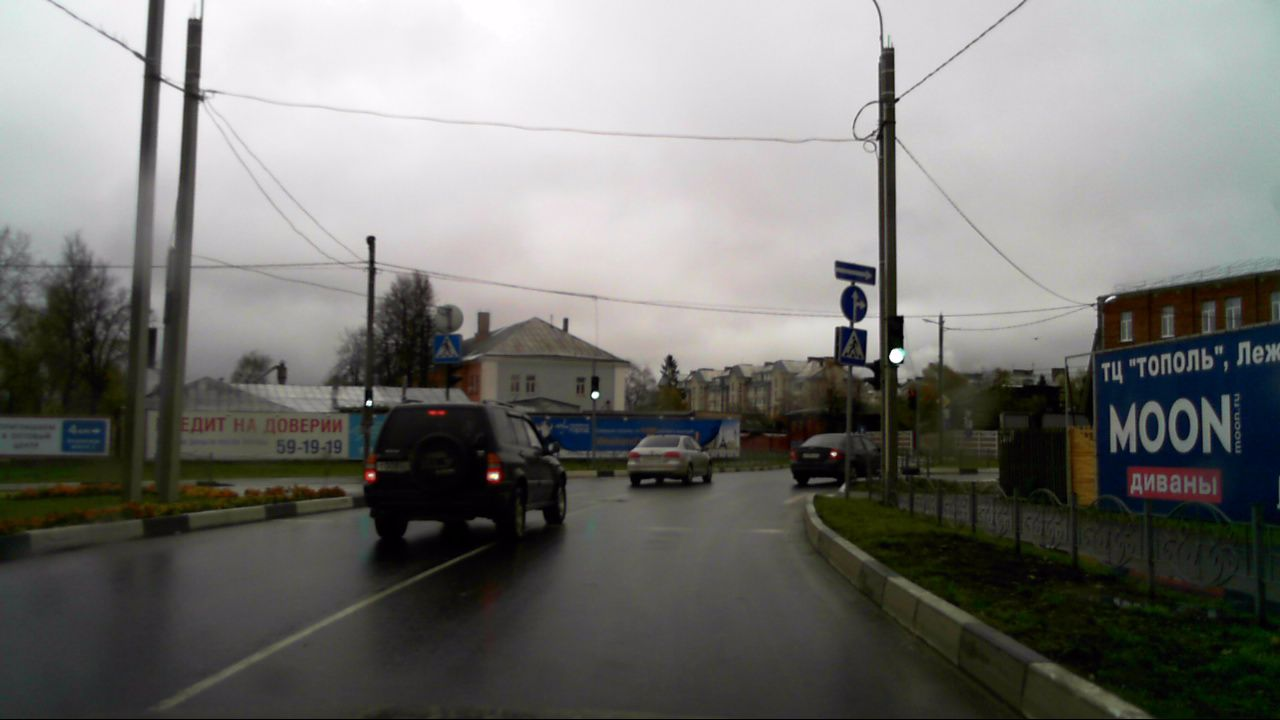One-Way Traffic: (835, 261, 876, 285)
Pedestrian Crossing: (841, 328, 867, 364)
